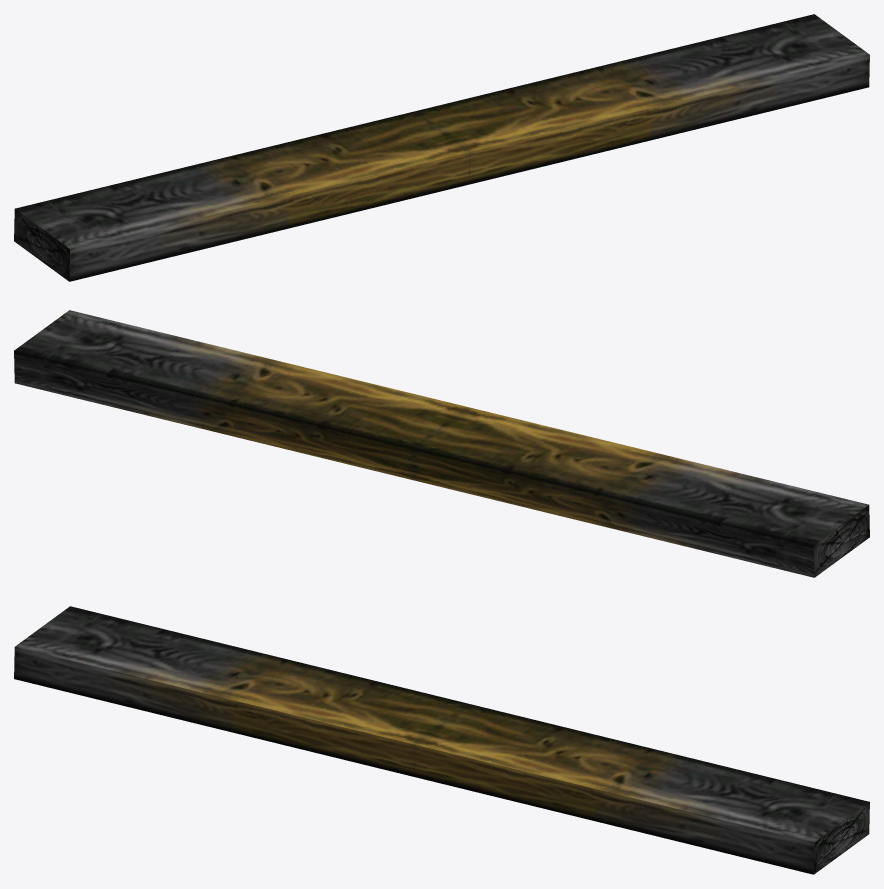
File: CB_BOARD3.fbx
3 views of the same model, one above another, from view 1: azimuth 30°, elevation 25°; view 2: azimuth 150°, elevation 25°; view 3: azimuth 330°, elevation 25° (orthographic).
Visible parts, largest first — view 1: CB_BOARD3; view 2: CB_BOARD3; view 3: CB_BOARD3.
Boxes of the visible parts, <box> form: CB_BOARD3: <box>14,14,869,281</box>; CB_BOARD3: <box>14,310,869,577</box>; CB_BOARD3: <box>14,606,869,874</box>.
Size of the model in its own units: 71047 by 2799 by 8527.
Materials: 2 (2 with a texture image).
